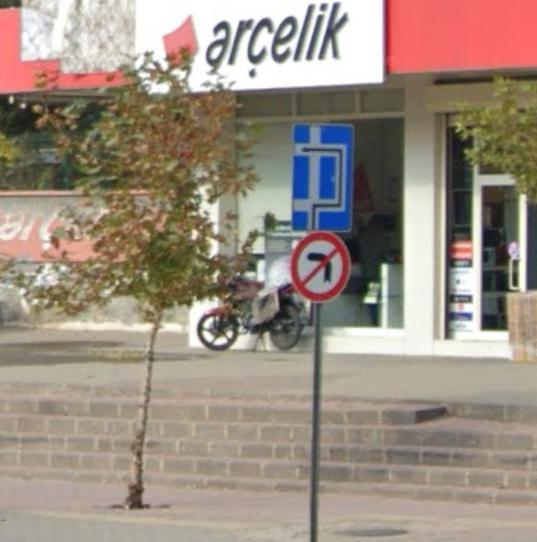leftturnsareforbidden: (294, 231, 350, 295)
